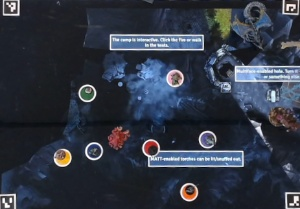blue: (83, 138, 103, 161)
green: (77, 82, 98, 102)
orange: (177, 182, 202, 203)
pink: (163, 67, 187, 88)
red: (138, 136, 162, 159)
violet: (198, 128, 218, 150)
yellow: (51, 145, 72, 168)
